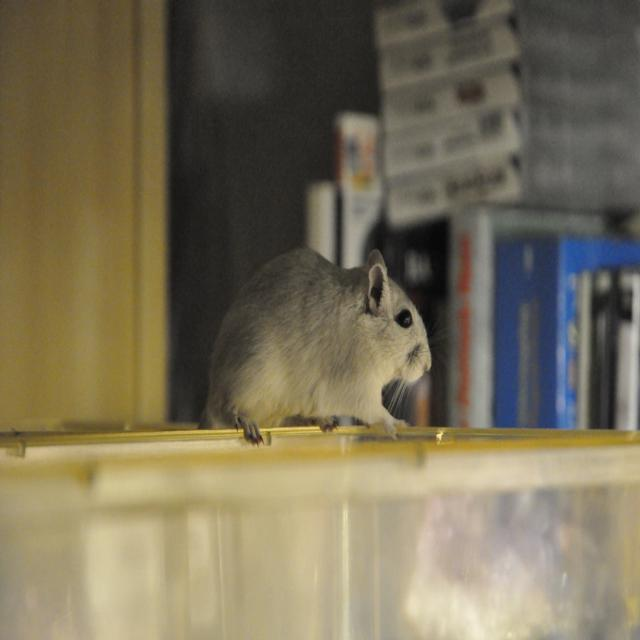rat: (202, 242, 430, 442)
